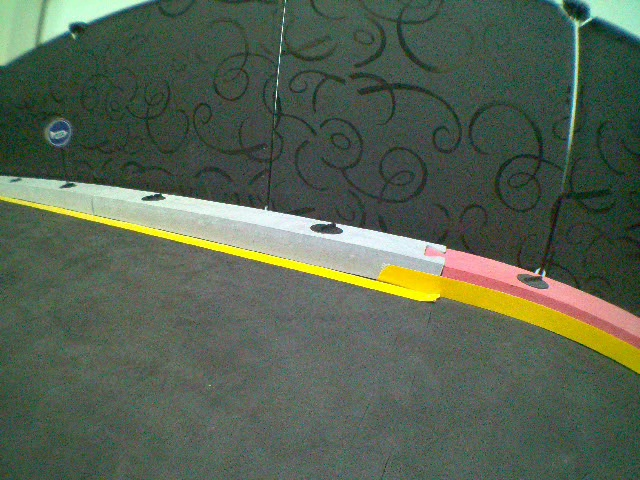horn: (44, 116, 72, 148)
